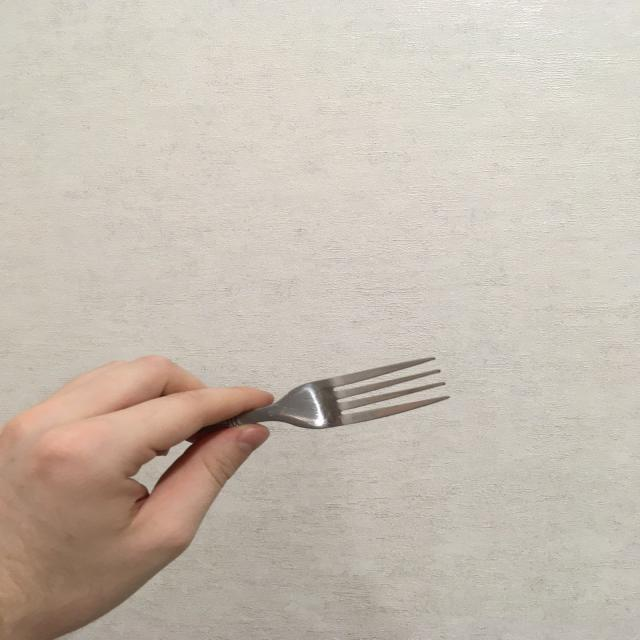fork: (108, 355, 452, 431)
